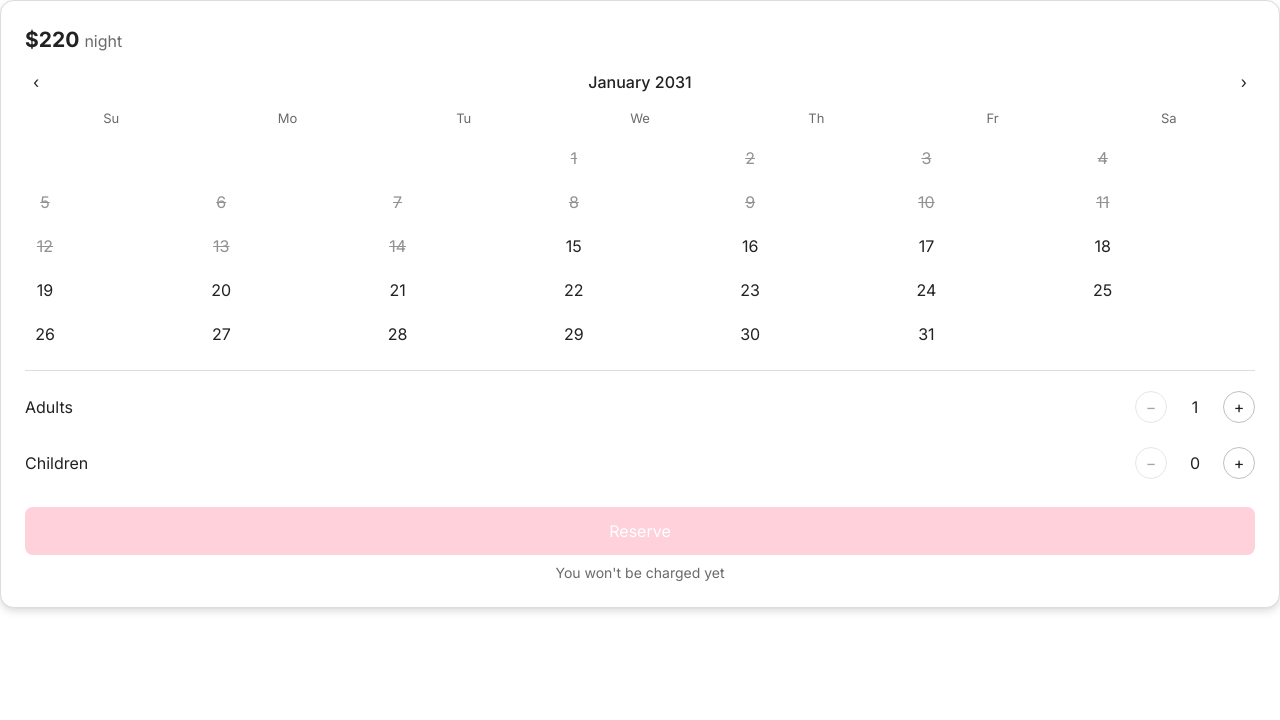
Test: ReservationCard › enables Reserve and shows a total once a date range is selected
Click the button "30". click: (750, 334)
box: [730,314,770,354]
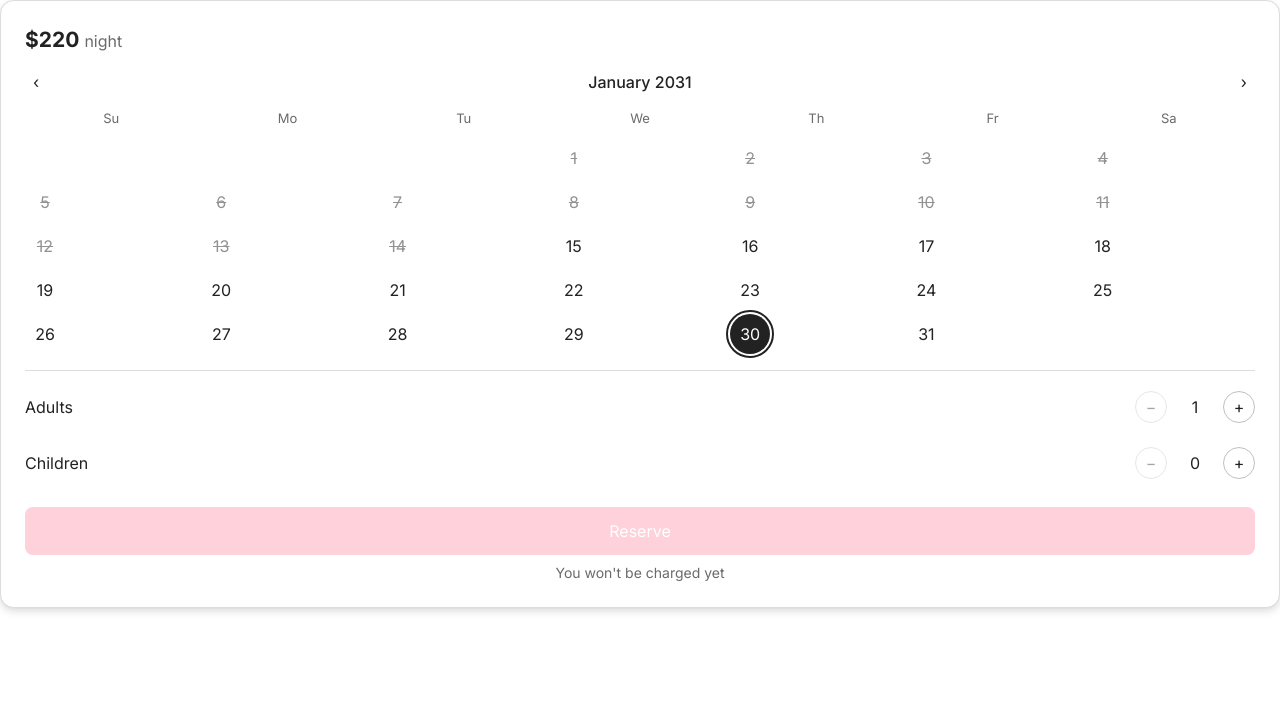
Click the button "31". click: (926, 334)
box: [906,314,946,354]
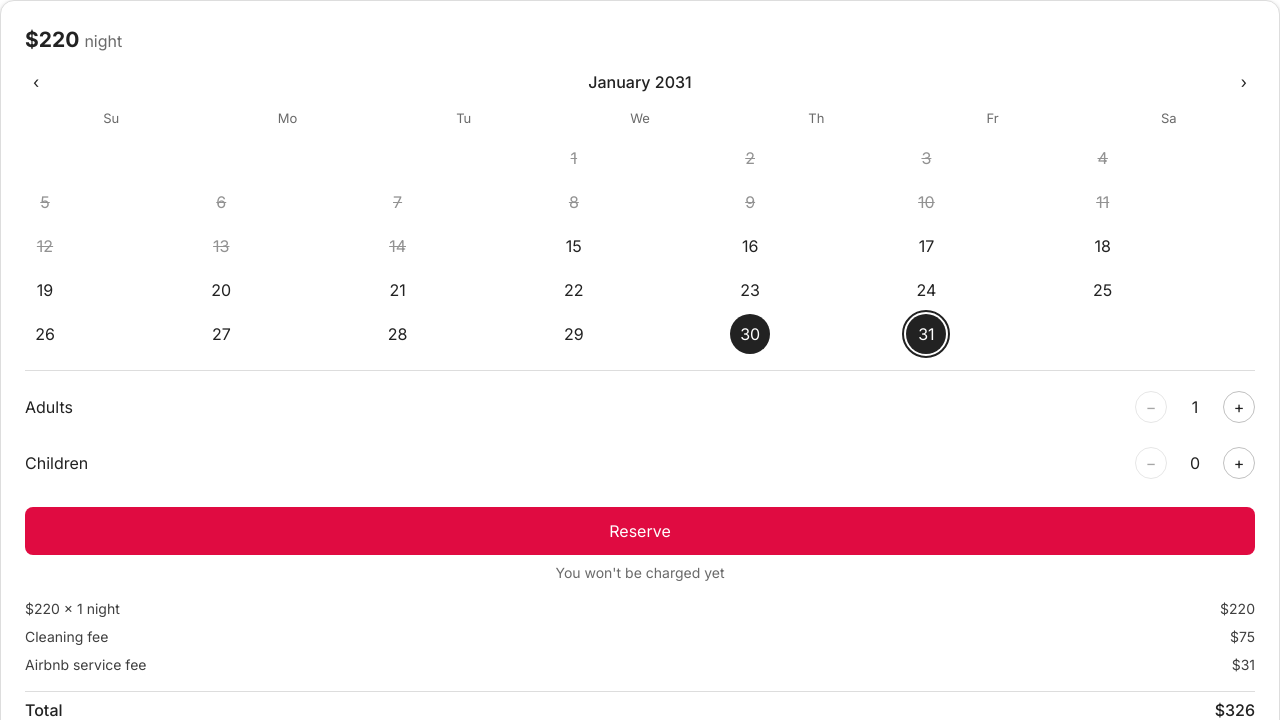
Check: the text "Total" is shown, box [25,700,62,719]
